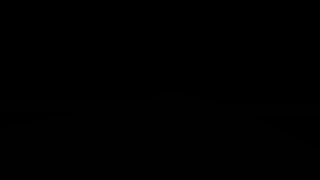go_ahead: (259, 21, 302, 54)
